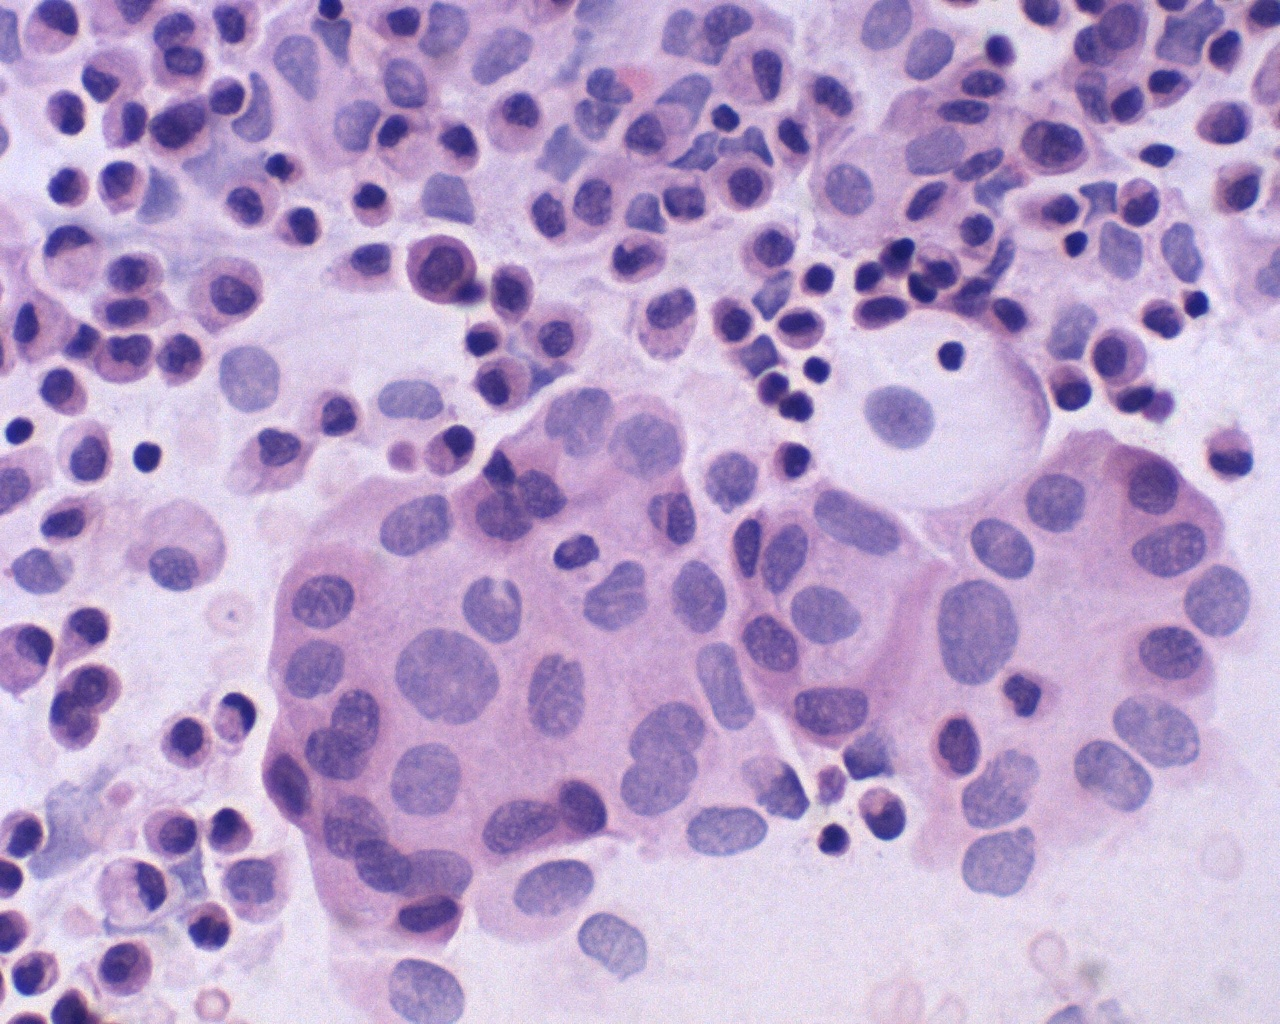ab: (516, 632, 638, 764), (916, 567, 1038, 699), (329, 473, 461, 583), (470, 854, 609, 949), (262, 546, 390, 636), (930, 828, 1045, 915), (1118, 616, 1225, 706), (462, 774, 557, 861), (914, 706, 1001, 788), (398, 228, 484, 303), (1017, 110, 1091, 181), (87, 935, 157, 1002), (1198, 90, 1256, 152), (1210, 161, 1267, 222)
histo: (816, 312, 1055, 515), (90, 857, 179, 931), (31, 220, 106, 298)
lymph: (125, 437, 172, 478), (937, 336, 976, 376), (1, 411, 40, 449), (797, 352, 834, 388)
meso: (184, 248, 271, 338), (1091, 316, 1160, 393), (708, 150, 779, 219), (471, 352, 535, 416)
